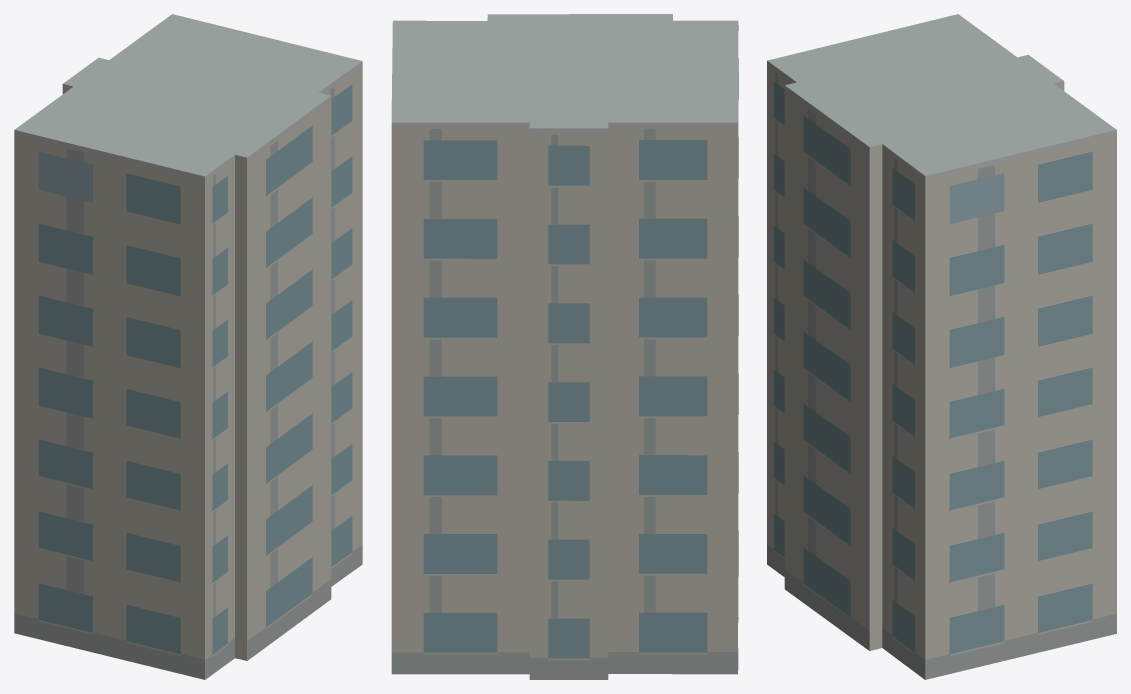
File: survey-upis-32769789.glb
3 renders of one model, left to right at view 1: azimuth 30°, elevation 25°; view 2: azimuth 150°, elevation 25°; view 3: azimuth 270°, elevation 25°, orthographic. The views are drawn at different scales.
Visible parts, largest first — view 1: survey-upis-32769789.tmp; view 2: survey-upis-32769789.tmp; view 3: survey-upis-32769789.tmp.
Part boxes in pixels (x1,y1,x2,y2): survey-upis-32769789.tmp: (14,14,362,679); survey-upis-32769789.tmp: (391,14,738,679); survey-upis-32769789.tmp: (767,14,1116,679).
Size of the model in its own units: 15.11 by 21.9 by 13.79.
